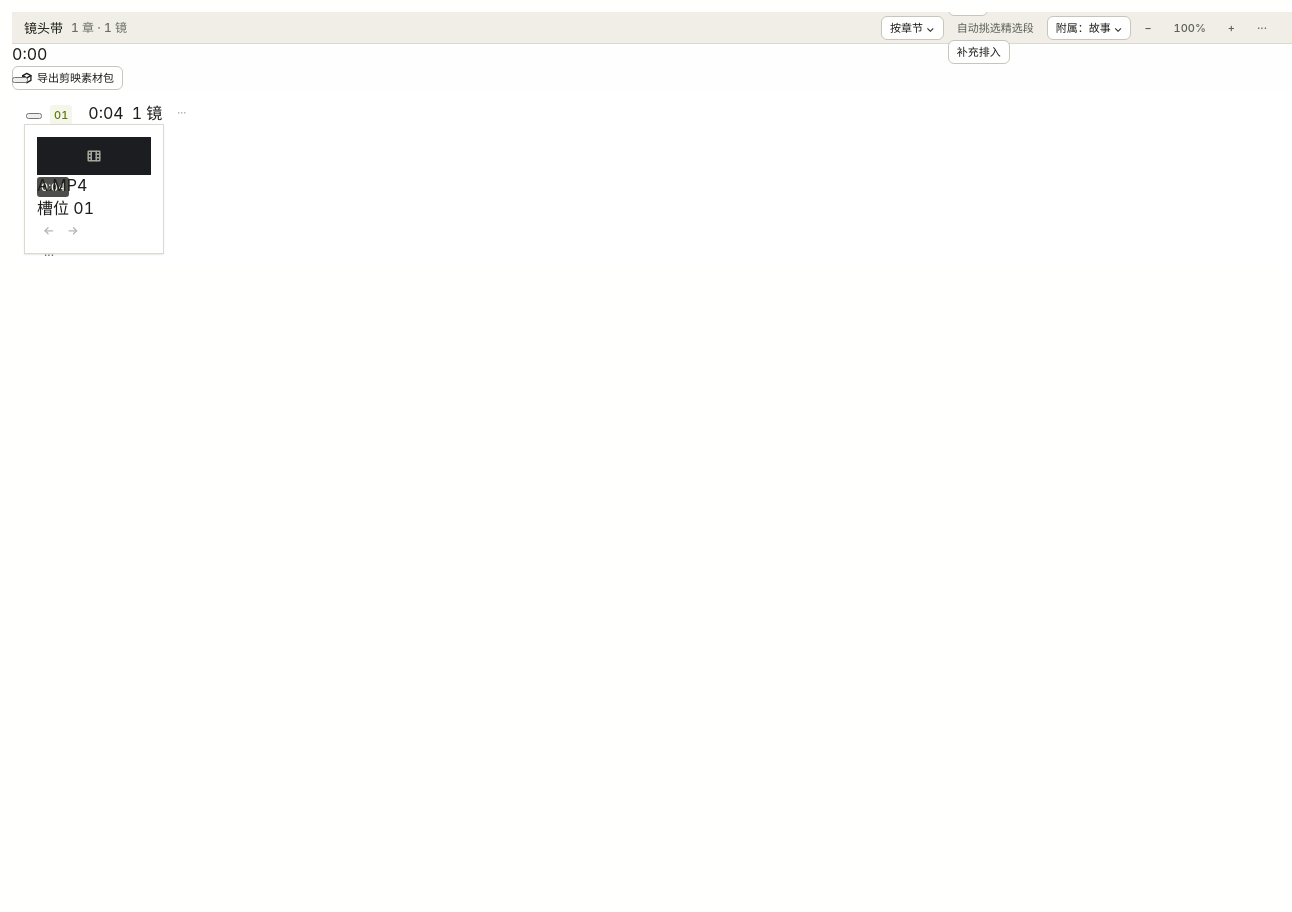
R11 §1.2:镜头带工具条「自动挑选精选段」 › 改范围与预算后按原样传给后端;出错时 toast 说清楚且没有「撤销」
This screenshot has width=1292, height=912.
Check: the cell named "镜头 1：A.MP4" is shown, box [24,124,164,254]
Click the button "自动挑选精选段": (995, 28) [948,16,1043,40]
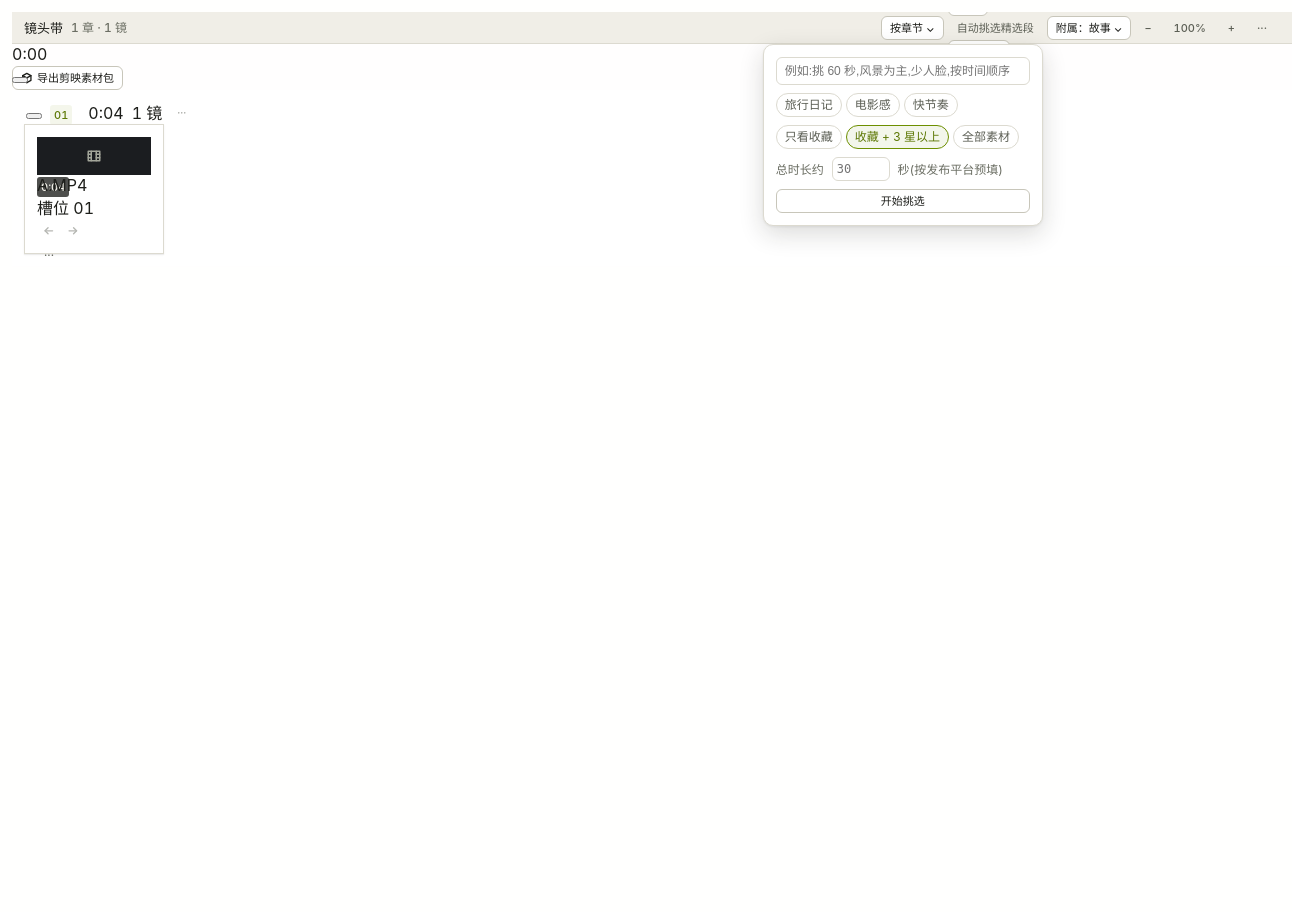
Click the button "全部素材": (986, 136) [953,124,1019,148]
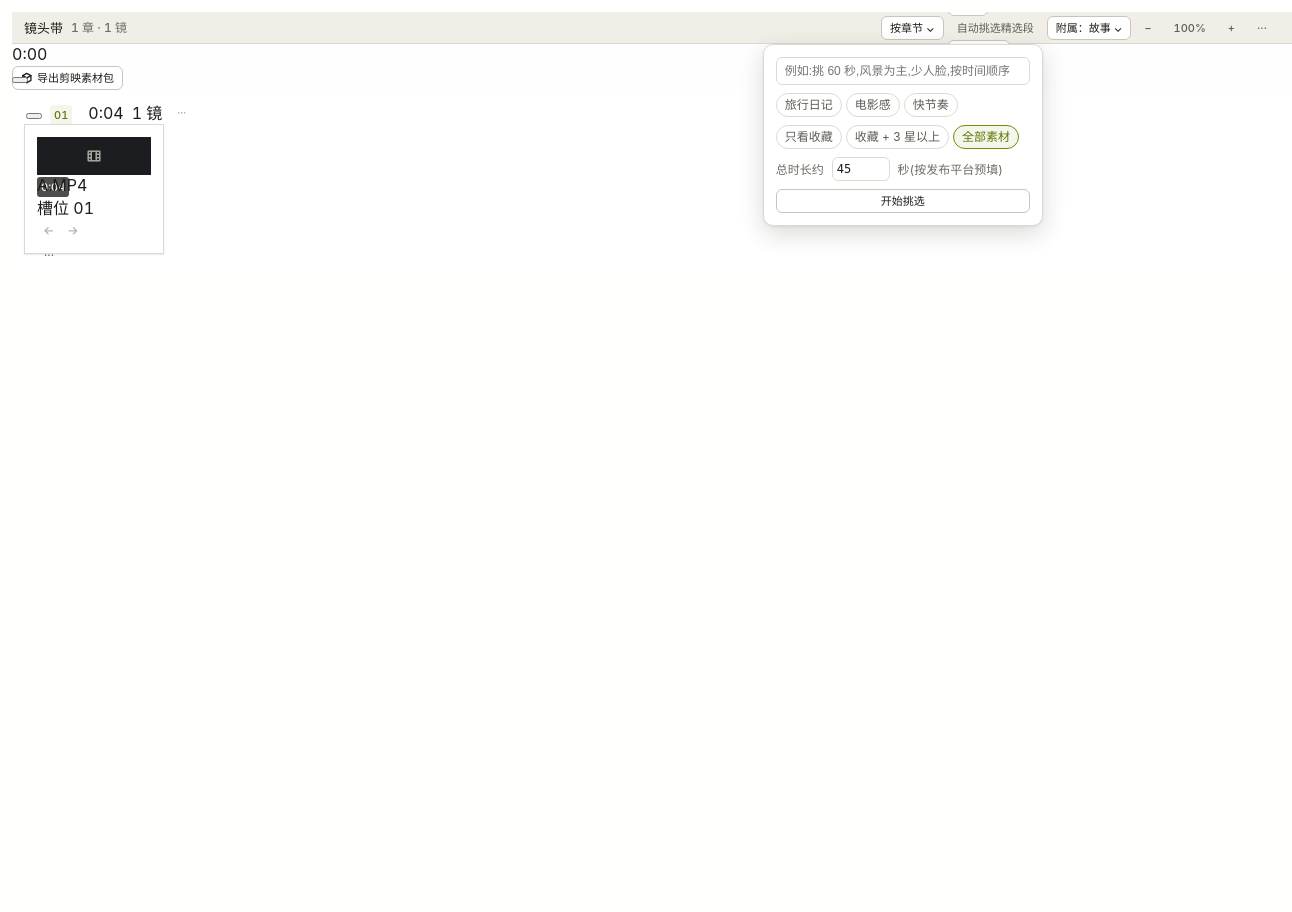
Check: the number field labelled "总时长约 秒(按发布平台预填)" holds "45"
Replace the text in the number field labelled "总时长约 秒(按发布平台预填)" with "60": (861, 168) [832,156,890,180]
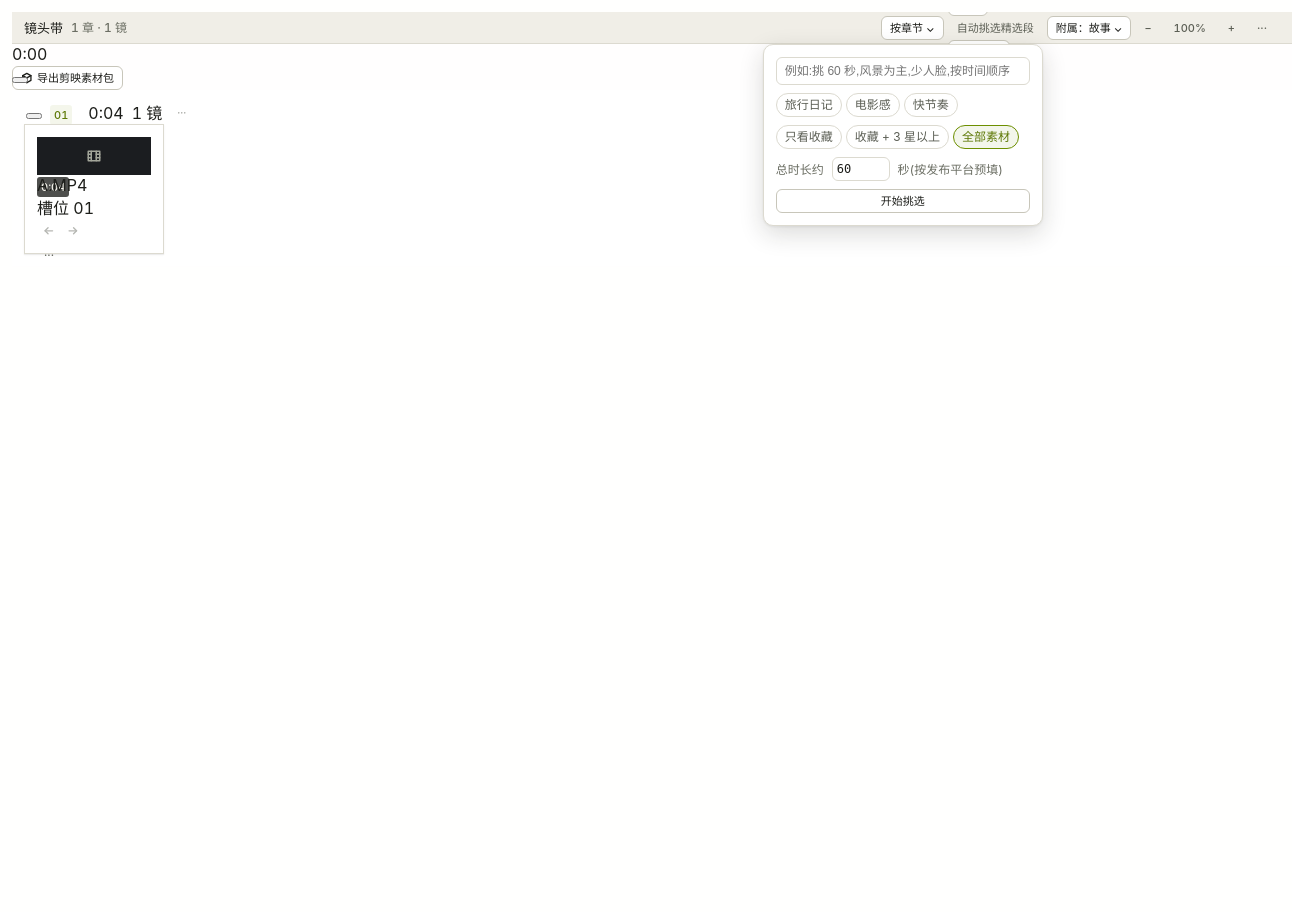
Click the button "开始挑选": (903, 200) [776,188,1030,212]
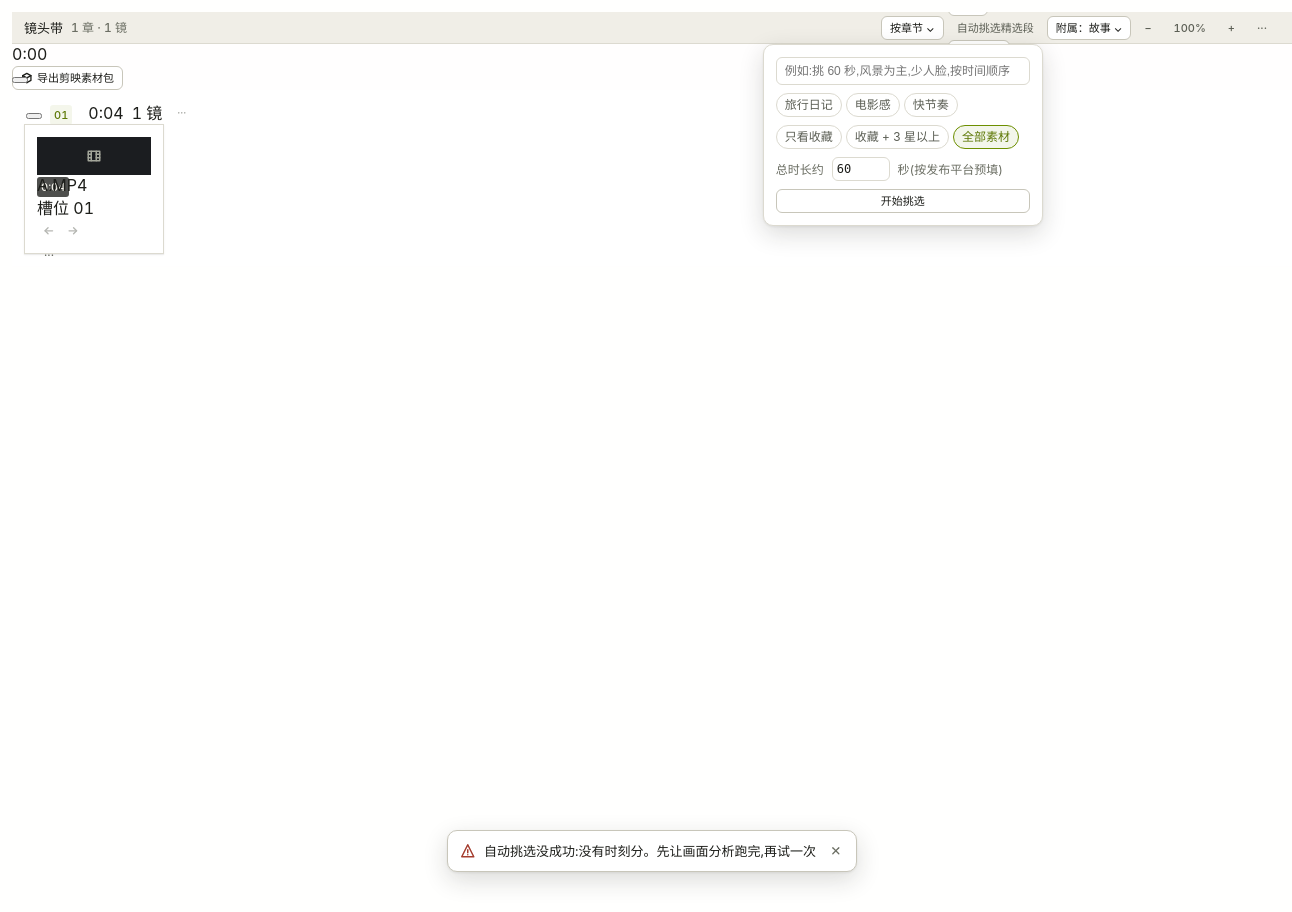
Check: the message reads "自动挑选没成功:没有时刻分。先让画面分析跑完,再试一次", box [484,843,816,859]
